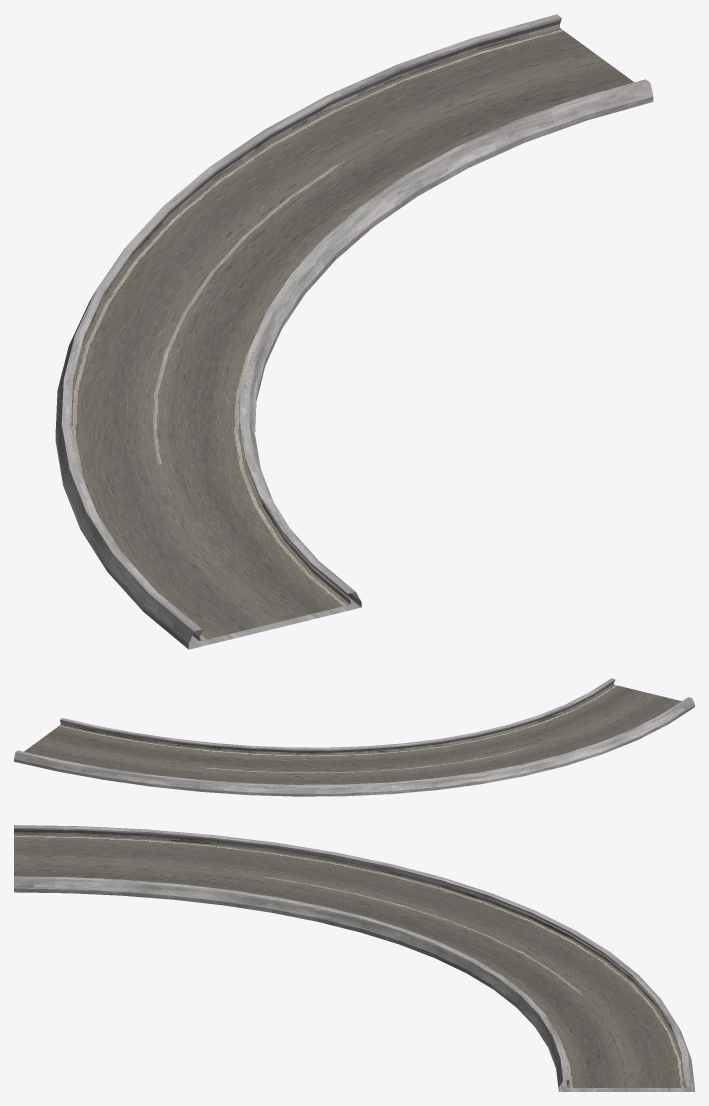
File: turn-right5x5.glb
3 renders of one model, top to bottom at view 1: azimuth 30°, elevation 25°; view 2: azimuth 150°, elevation 25°; view 3: azimuth 270°, elevation 25°, orthographic. The views are drawn at different scales.
Visible parts, largest first — view 1: road-Turn-Flat-Flat-Up1-Right-Size5; view 2: road-Turn-Flat-Flat-Up1-Right-Size5; view 3: road-Turn-Flat-Flat-Up1-Right-Size5.
Boxes of the visible parts, bbox=[...] form: road-Turn-Flat-Flat-Up1-Right-Size5: bbox=[55, 14, 653, 649]; road-Turn-Flat-Flat-Up1-Right-Size5: bbox=[14, 678, 694, 796]; road-Turn-Flat-Flat-Up1-Right-Size5: bbox=[14, 825, 694, 1091].
Bounding box in the file's own units: 5 × 0.3438 × 5.
Materials: 2 (2 with a texture image).
